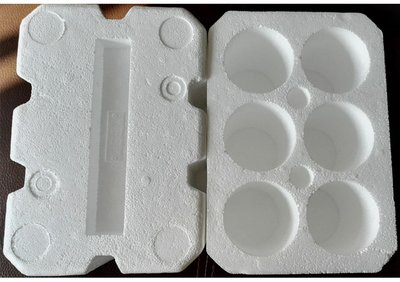5/可回收垃圾/泡沫: (3, 1, 208, 276), (206, 10, 397, 275)
